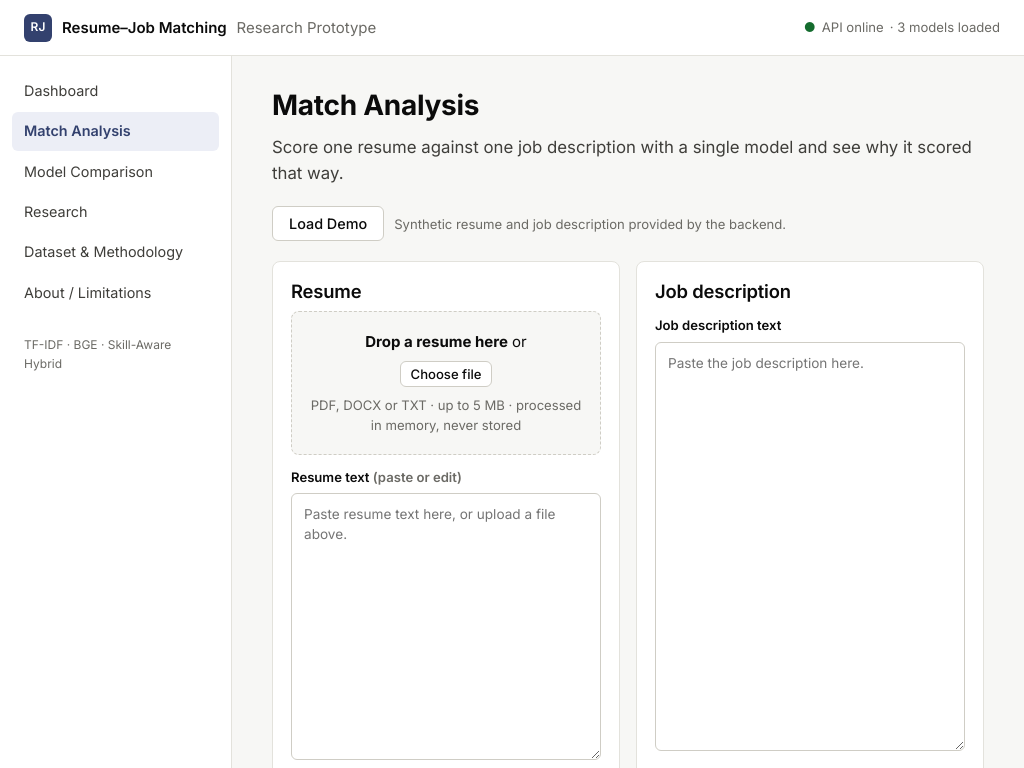
Scenario: errors › shows backend validation messages, never raw internals
What coordinates should you click on to do the following:
click the button "Load Demo"
I would click on:
 (328, 224)
Its box is [272,206,384,241].
(page scrolled)
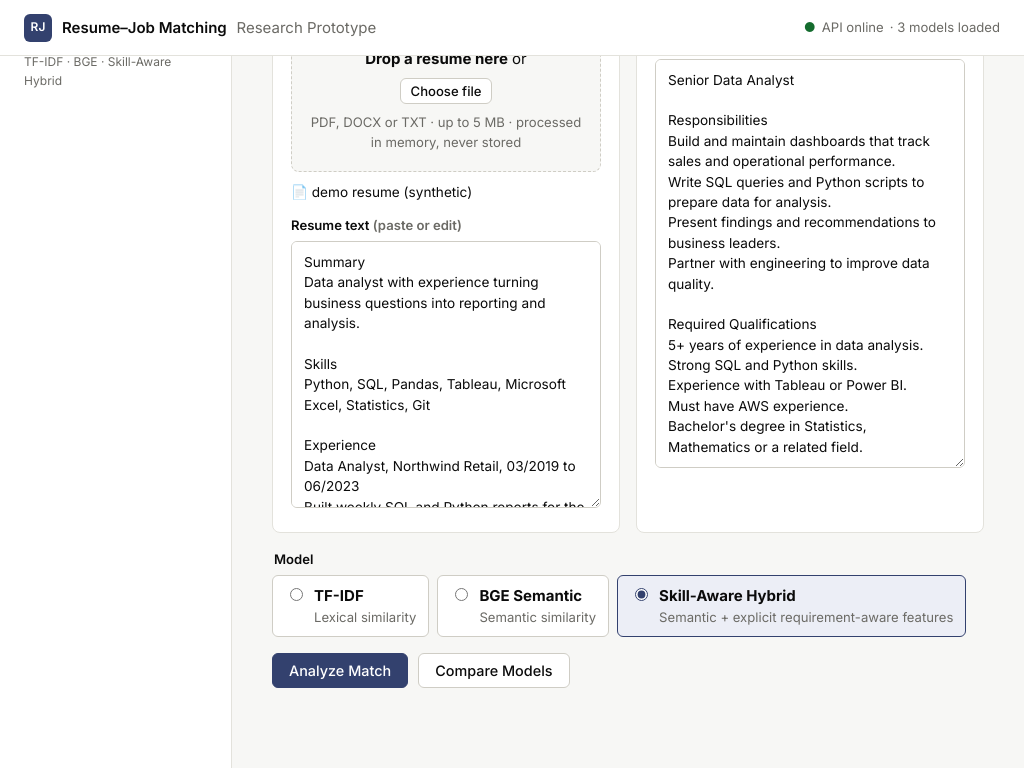
What coordinates should you click on to do the following:
click the button "Analyze Match"
I would click on:
 (340, 670)
Its box is [272,653,408,688].
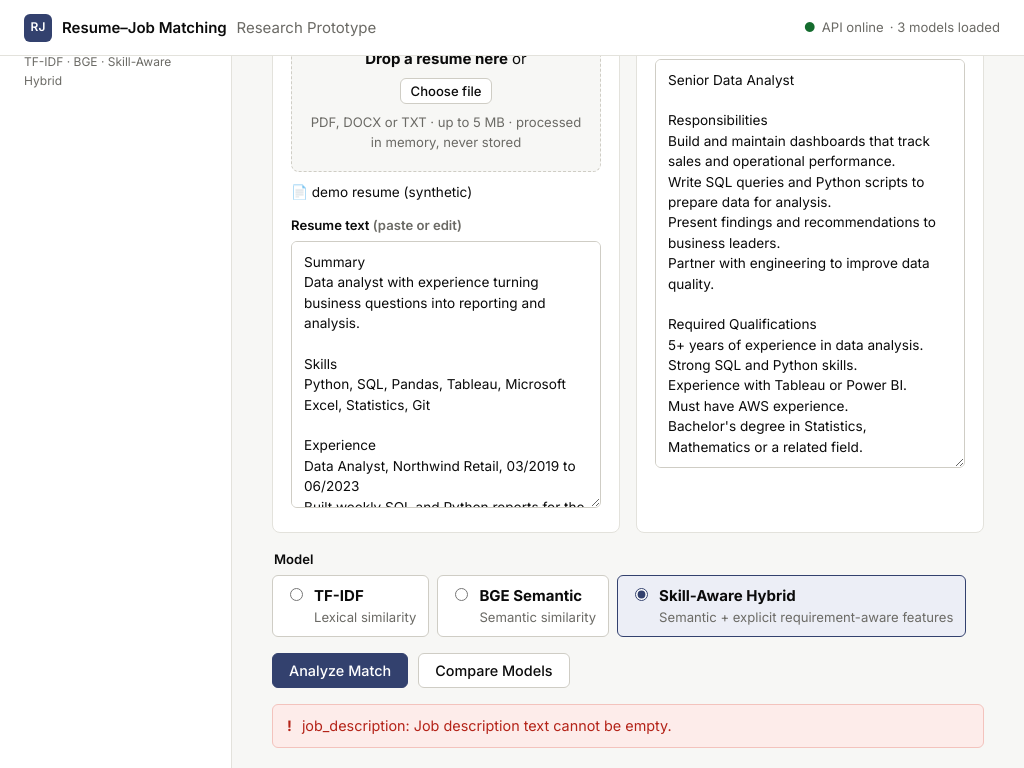
Check: the message "! job_description: Job description text cannot be empty." is shown, box [272,704,984,748]
